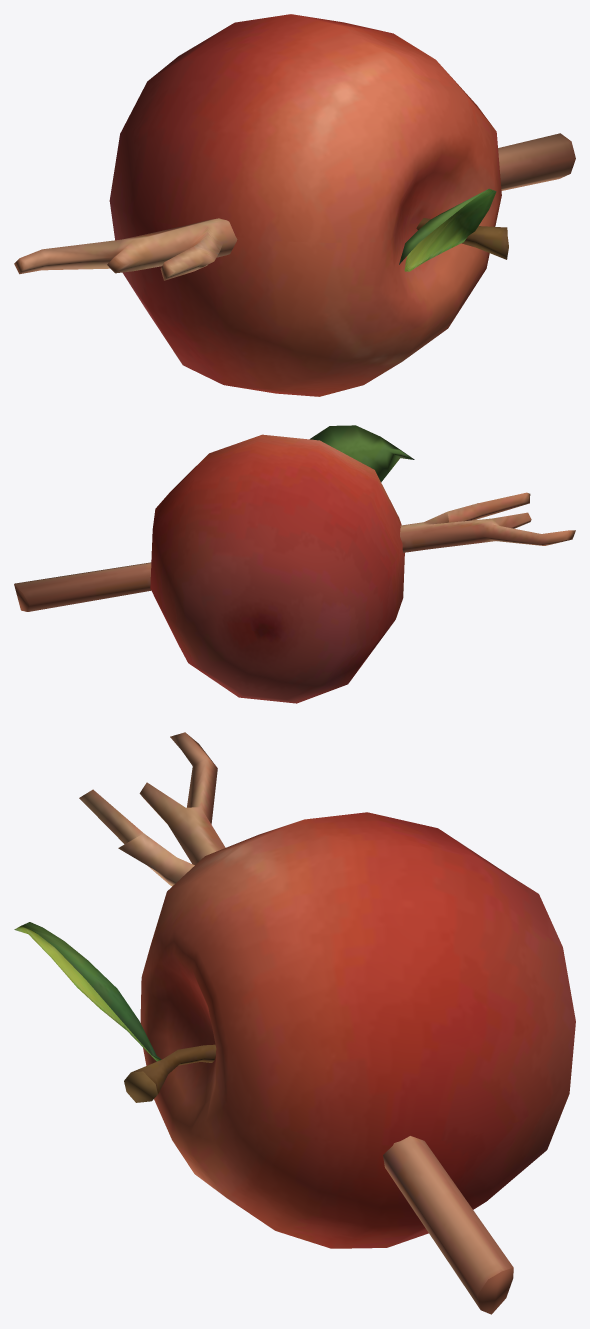
File: helm11005.fbx
3 views of the same model, one above another, from view 1: azimuth 30°, elevation 25°; view 2: azimuth 150°, elevation 25°; view 3: azimuth 270°, elevation 25° (orthographic). The views are drawn at different scales.
Parts seen in each view (by area): view 1: helm11005; view 2: helm11005; view 3: helm11005.
Part boxes in pixels (x1,y1,x2,y2): helm11005: [14, 14, 575, 396]; helm11005: [14, 425, 575, 703]; helm11005: [14, 732, 575, 1314].
Size of the model in its own units: 0.2987 by 0.1454 by 0.1865.
